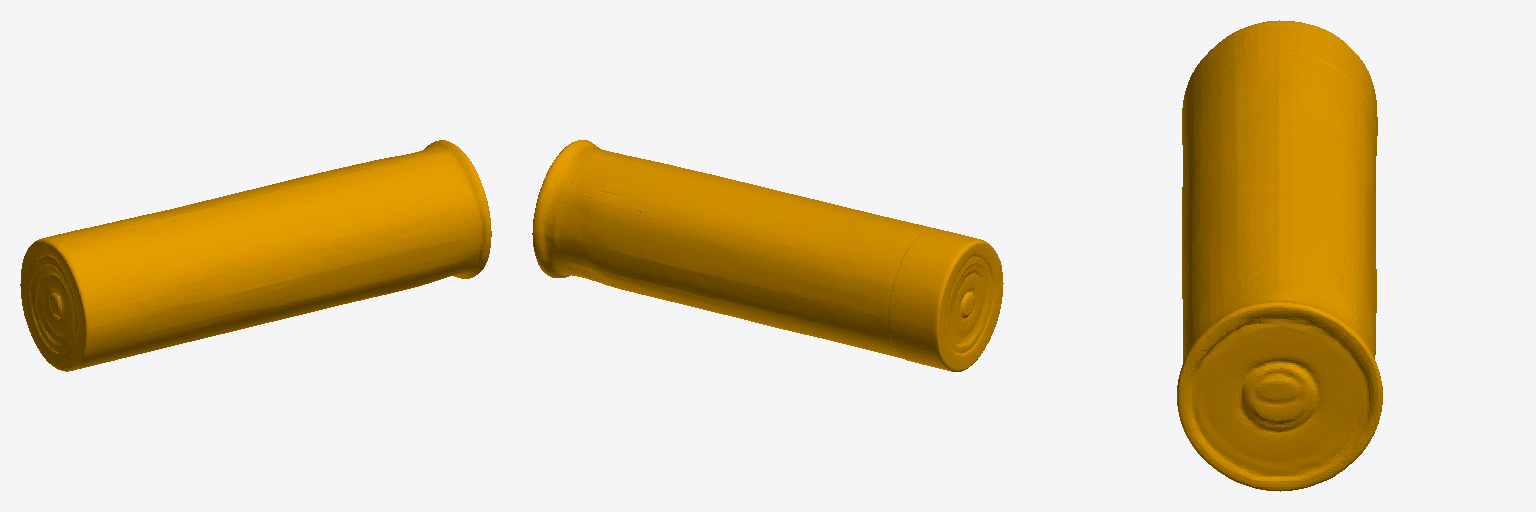
The robot description file, URDF, robot "sample":
<?xml version="1.0" ?>
<robot name="sample">
   <link name="sample">
      <visual>
         <origin xyz="0 0 0" rpy="1.5708 0.0 0.0"/>
         <geometry>
            <mesh filename="mesh/sample.obj" scale="1.0 1.0 1.0"/>
         </geometry>
      </visual>
      <collision>
         <origin xyz="0 0 0" rpy="1.5708 0.0 0.0"/>
         <geometry>
            <mesh filename="mesh/sample_collision.obj" scale="1.0 1.0 1.0"/>
         </geometry>
         <gazebo>
            <mu1>0.40</mu1>
            <mu2>0.30</mu2>
         </gazebo>
      </collision>
      <inertial>
         <mass value="0.0750"/>
         <origin xyz="0 0 0"/>
         <inertia ixx="1.0" ixy="0.0" ixz="0.0" iyy="1.0" iyz="0.0" izz="1.0"/>
      </inertial>
      <extra_info>
         <scale>0.070679</scale>
         <version>v0.1.7</version>
         <category>battery</category>
         <description>cylindrical yellow battery with metallic ends</description>
         <min_height>0.018</min_height>
         <max_height>0.025</max_height>
         <real_height>0.0215</real_height>
         <min_mass>0.05</min_mass>
         <max_mass>0.1</max_mass>
         <color>yellow</color>
         <rgba>[1.0, 0.9, 0.0, 1.0]</rgba>
         <generate_time>20260625092948</generate_time>
         <gs_model>mesh/sample_gs.ply</gs_model>
      </extra_info>
   </link>
   <custom_data>
      <quality>
         <MeshGeoChecker>YES</MeshGeoChecker>
         <ImageSegChecker>NO, background artifacts and color bleeding indicate poor segmentation.</ImageSegChecker>
         <ImageAestheticChecker>4.025373578071594</ImageAestheticChecker>
         <overall>NO</overall>
      </quality>
   </custom_data>
</robot>

--- What the picture shows (computed from the rendered views, not written in the file) ---
The picture shows the robot from 3 angles, left to right: view 1: azimuth 30°, elevation 25°; view 2: azimuth 150°, elevation 25°; view 3: azimuth 270°, elevation 25°; orthographic projection.
Model sample with 1 links and 0 joints (none), rooted at sample, posed all joints at 0.
Links seen in each view (by area): view 1: sample; view 2: sample; view 3: sample.
Link boxes in pixels (x1=…): sample: x1=20, y1=140, x2=491, y2=371; sample: x1=532, y1=140, x2=1003, y2=371; sample: x1=1177, y1=20, x2=1382, y2=491.
Size in the robot's own frame: 0.0707 by 0.0213 by 0.0215 metres.
1 mesh visuals loaded from 1 distinct referenced files (1 OBJ).
